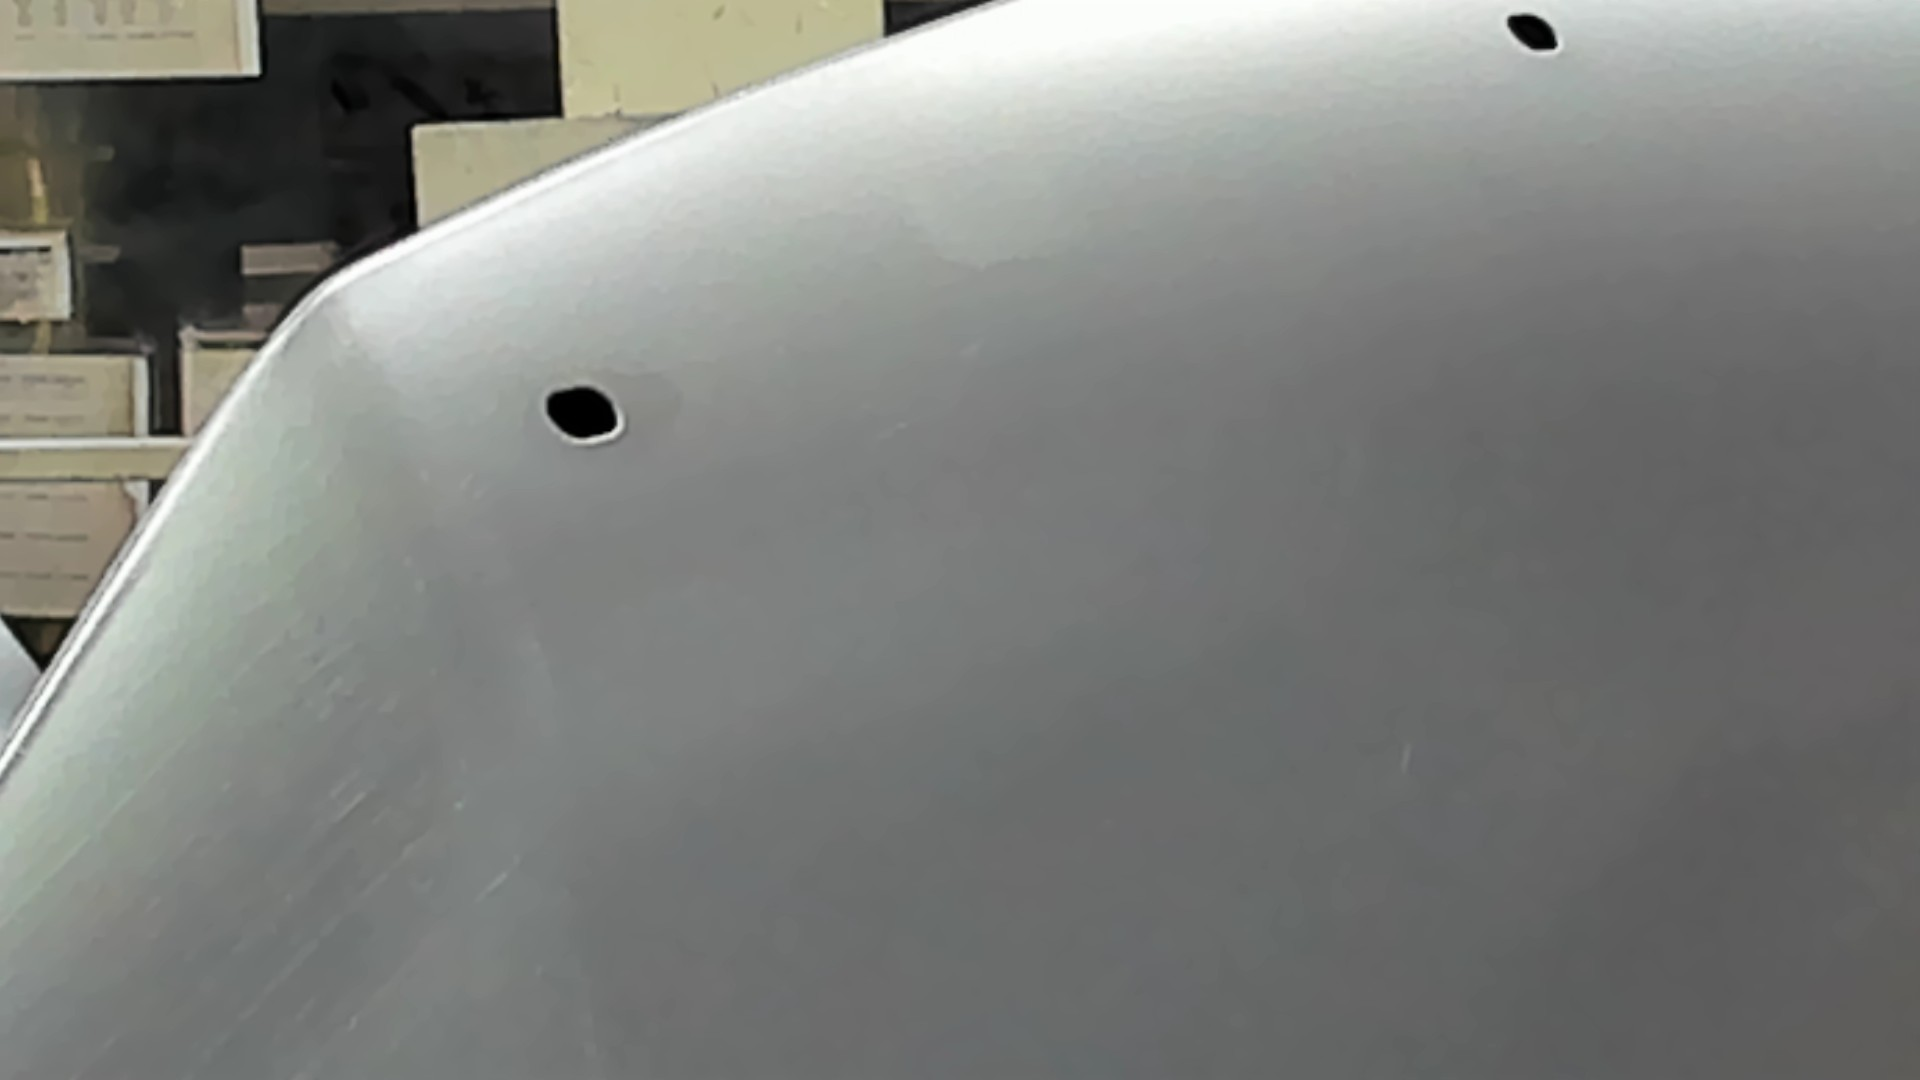amorfo: (538, 382, 624, 444), (1502, 11, 1565, 61)
capo: (796, 98, 1920, 1080)
